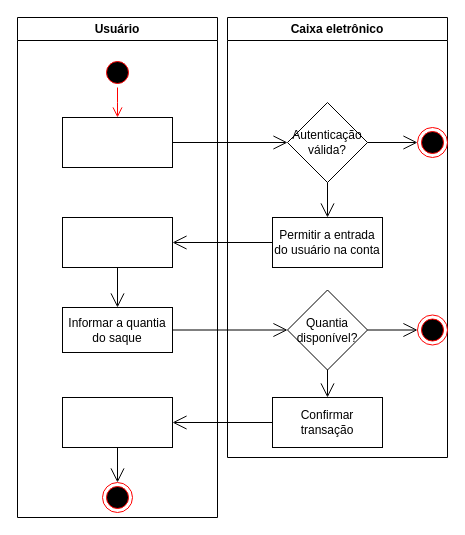
Some shapes in this 465 by 535 pixel diagram are drawn without their labels. The shapes that lost their labels are listed below. From the top down, each one's centre as x and y in pixels, then its label:
point 117,142: Fazer autenticação no caixa eletrônico
point 117,242: Escolher a opção de saque
point 117,422: Sacar o dinheiro
